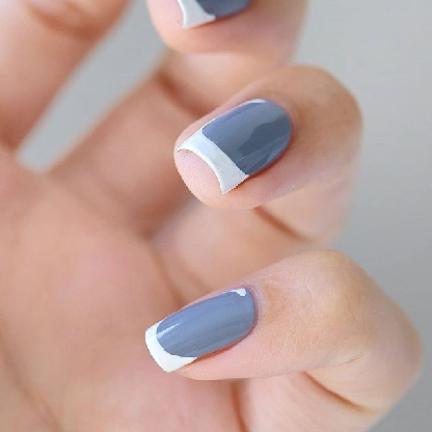Nail: (177, 99, 292, 195), (145, 288, 256, 372), (178, 0, 250, 28)
